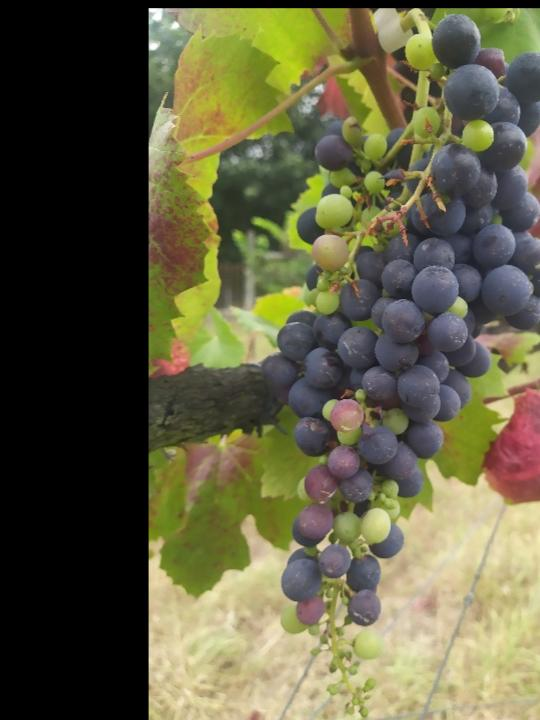grape: (260, 11, 540, 717)
